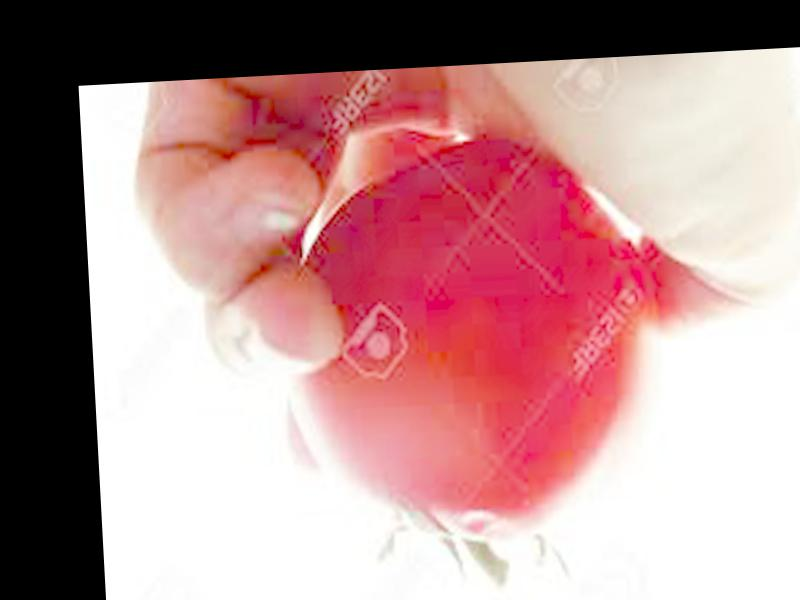Tomato: (274, 137, 664, 556)
